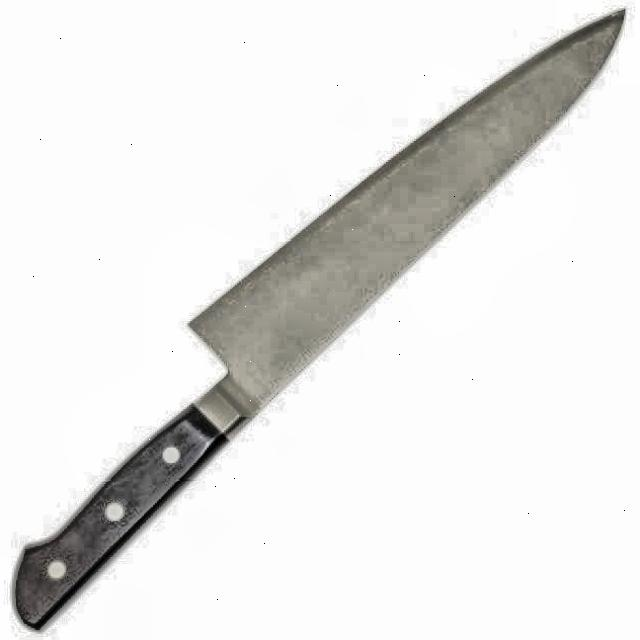knife: (8, 3, 630, 634)
